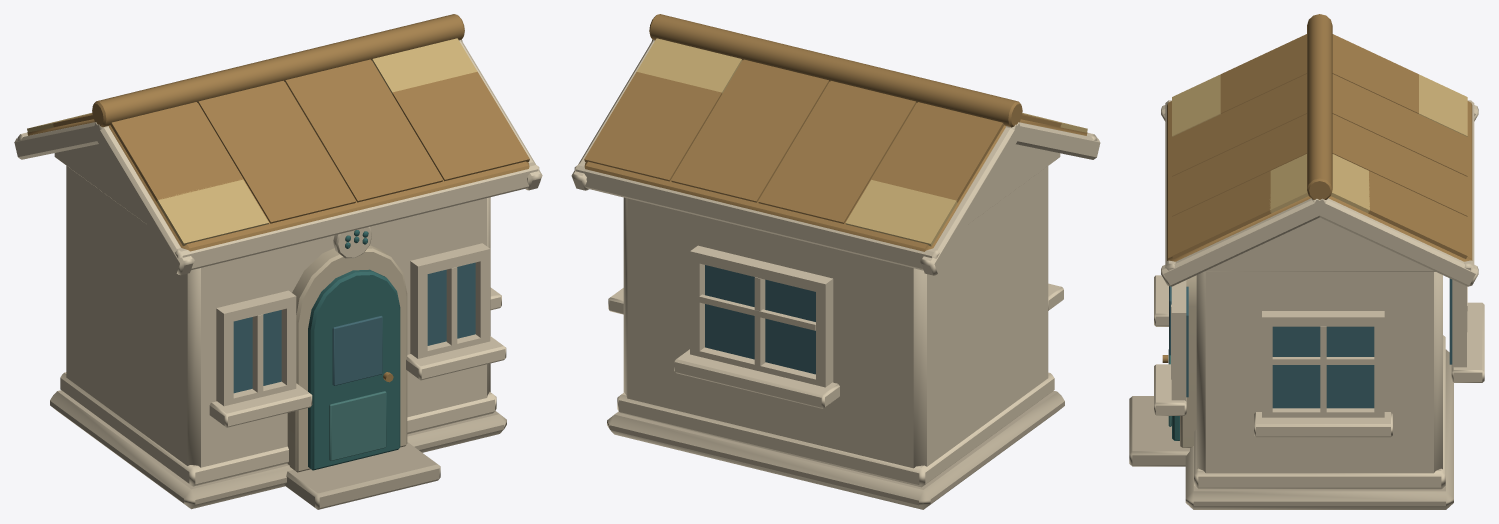
The model's file is town_hall_level_1.glb.
The picture shows the model from 3 angles, left to right: view 1: azimuth 30°, elevation 25°; view 2: azimuth 150°, elevation 25°; view 3: azimuth 270°, elevation 25°; orthographic projection. The views are drawn at different scales.
Visible parts, largest first — view 1: town_hall_level_1_runtime; view 2: town_hall_level_1_runtime; view 3: town_hall_level_1_runtime.
Boxes of the visible parts, <box> form: town_hall_level_1_runtime: <box>14,14,542,509</box>; town_hall_level_1_runtime: <box>571,14,1100,509</box>; town_hall_level_1_runtime: <box>1129,14,1484,509</box>.
Size of the model in its own units: 3.3 by 3.1 by 2.91.
